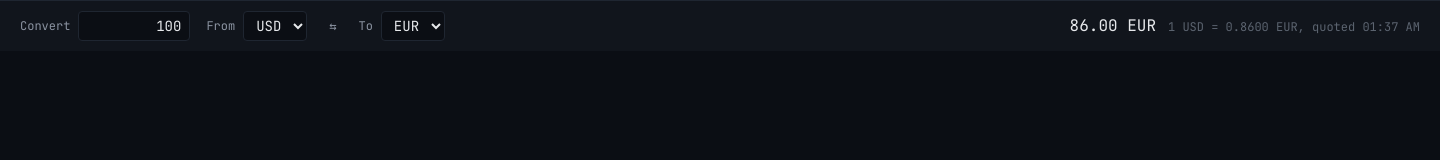
Test: Converter › recomputes locally as the amount changes, without another request
Expected: the text "86.00 EUR" is shown, [1070,14,1156,38]
Replace the text in the field named "Amount" with "250" at point(134, 26), box [78,11,190,41]
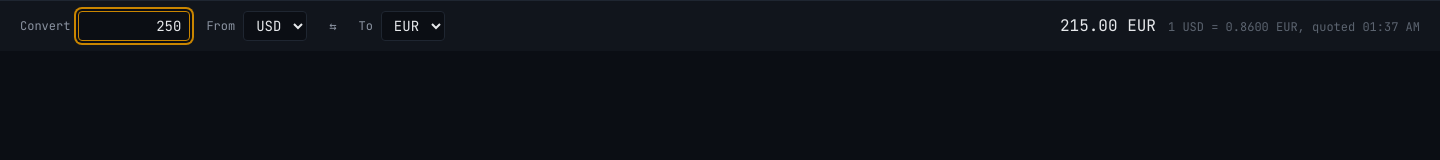
Expected: the text "215.00 EUR" is shown, [1060,14,1156,38]
